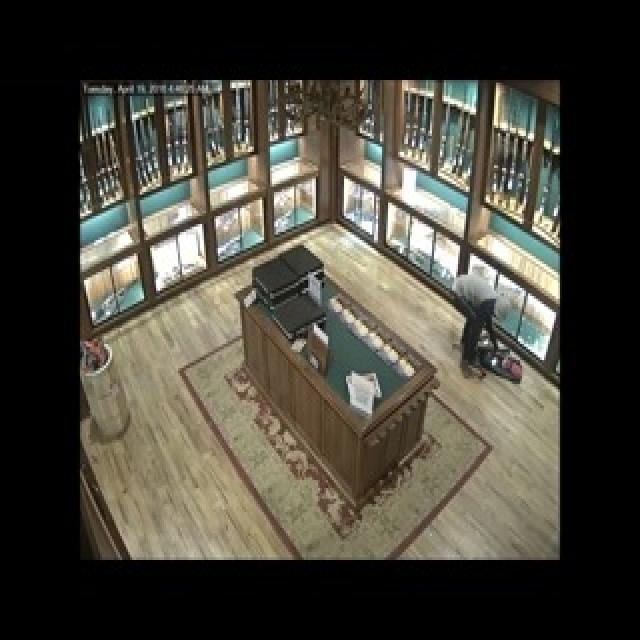thief: (445, 257, 503, 381)
